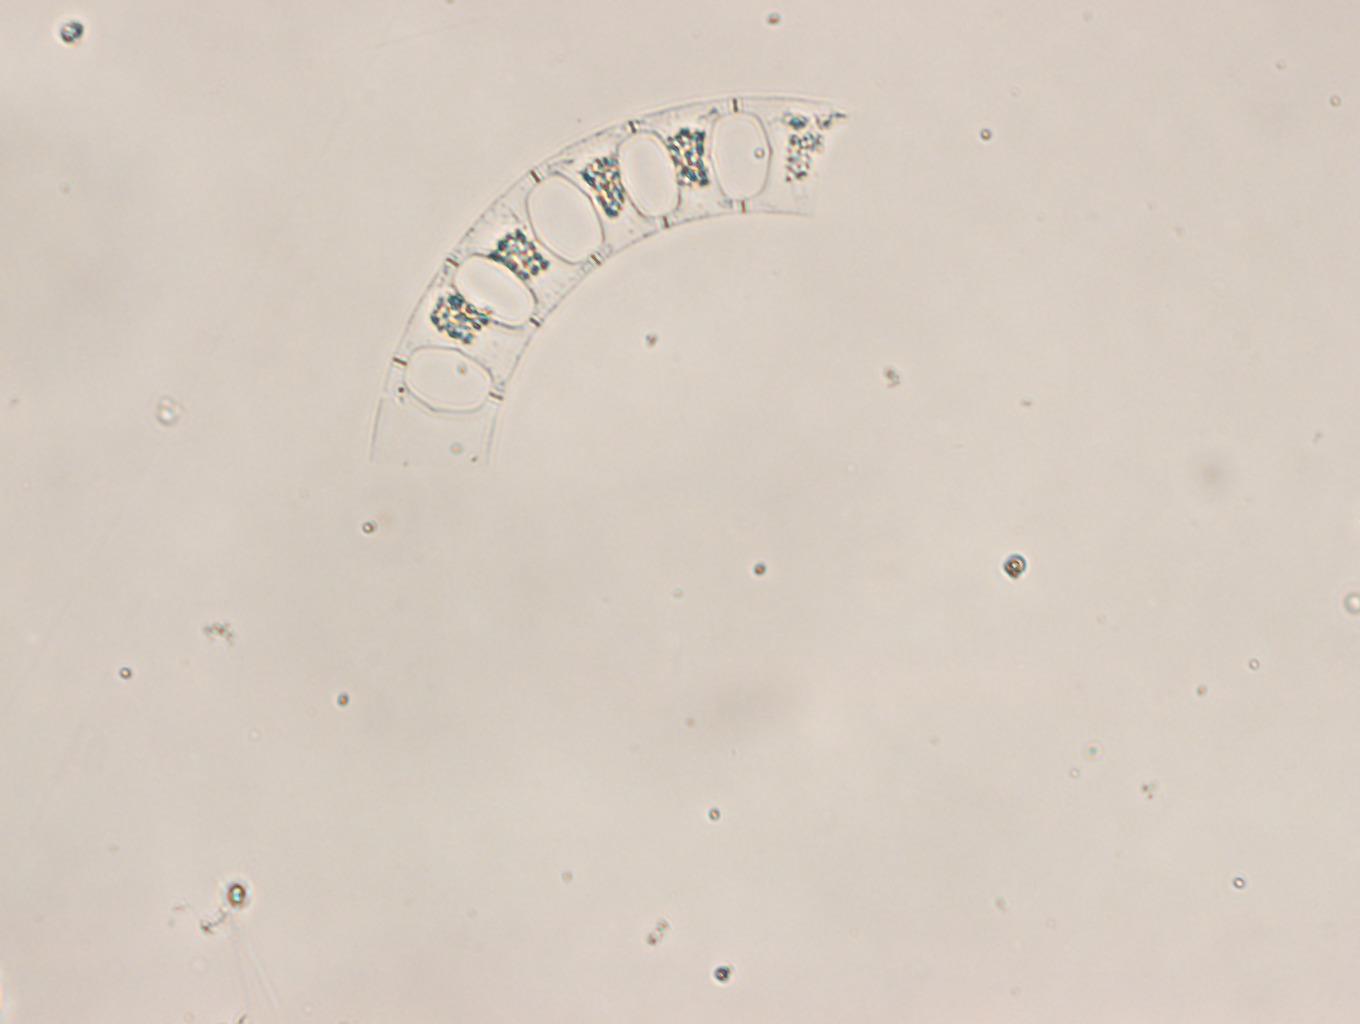eucampia: (367, 95, 848, 467)
